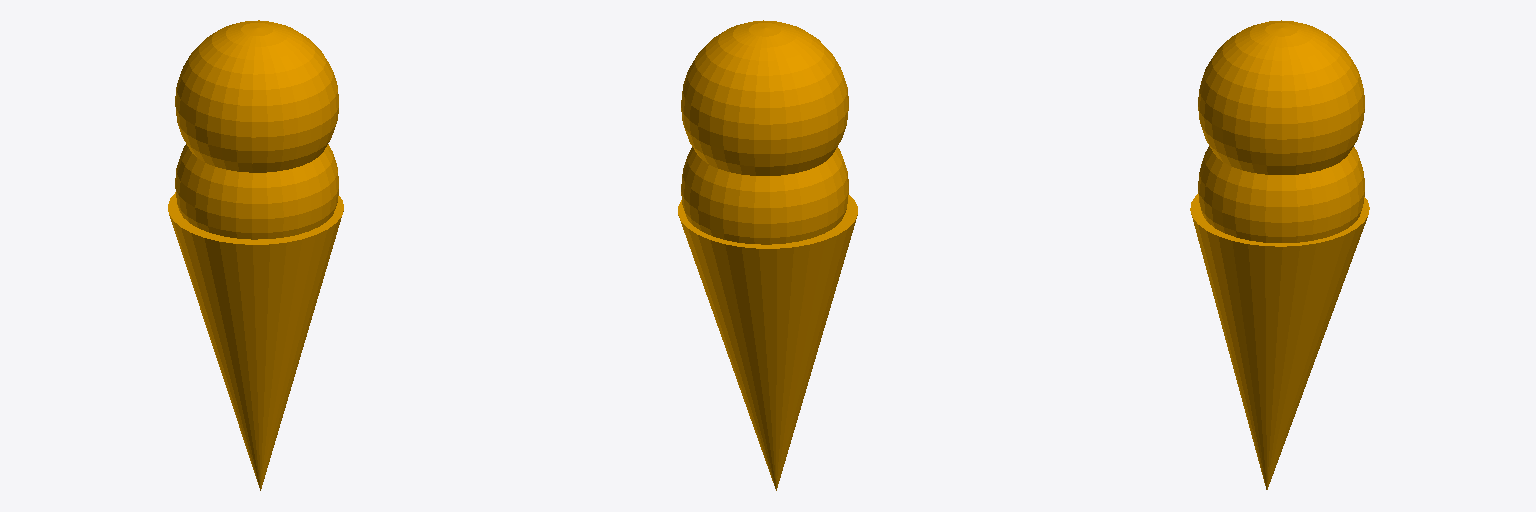
robot.urdf — mesh_object:
<?xml version="1.0" ?>
<robot name="mesh_object">
  <link name="base">
    <visual>
      <geometry>
        <mesh filename="drumstick_0.obj" scale="1 1 1"/>
      </geometry>
    </visual>
    <collision>
      <geometry>
        <mesh filename="drumstick_0.obj" scale="1 1 1"/>
      </geometry>
    </collision>
    <inertial>
      <origin xyz="-0.000370 -0.000685 0.114991" rpy="0 0 0"/>
      <mass value="0.5"/>
      <inertia ixx="0.01" iyy="0.01" izz="0.01" ixy="0" ixz="0" iyz="0"/>
    </inertial>
  </link>
</robot>

--- Facts derived from the render (not from the file) ---
Views: 3 orthographic renders of the robot side by side, from view 1: azimuth 30°, elevation 25°; view 2: azimuth 150°, elevation 25°; view 3: azimuth 270°, elevation 25°.
Model mesh_object with 1 links and 0 joints (none), rooted at base, posed every joint at zero.
Visible links, largest first — view 1: base; view 2: base; view 3: base.
Boxes of the visible links, x1,y1,x2,y2 form: base: (168,20,343,490); base: (678,20,857,490); base: (1190,20,1369,489).
Size in the robot's own frame: 0.0805 by 0.0805 by 0.23 metres.
1 mesh visuals loaded from 1 distinct referenced files (1 OBJ).
